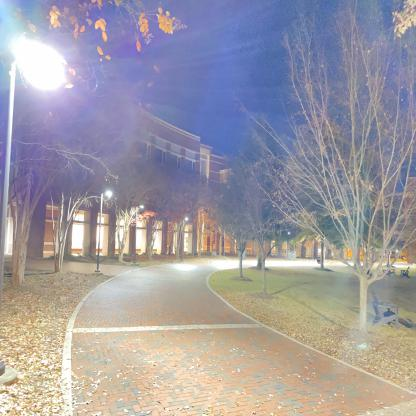eb2: (32, 90, 306, 265)
